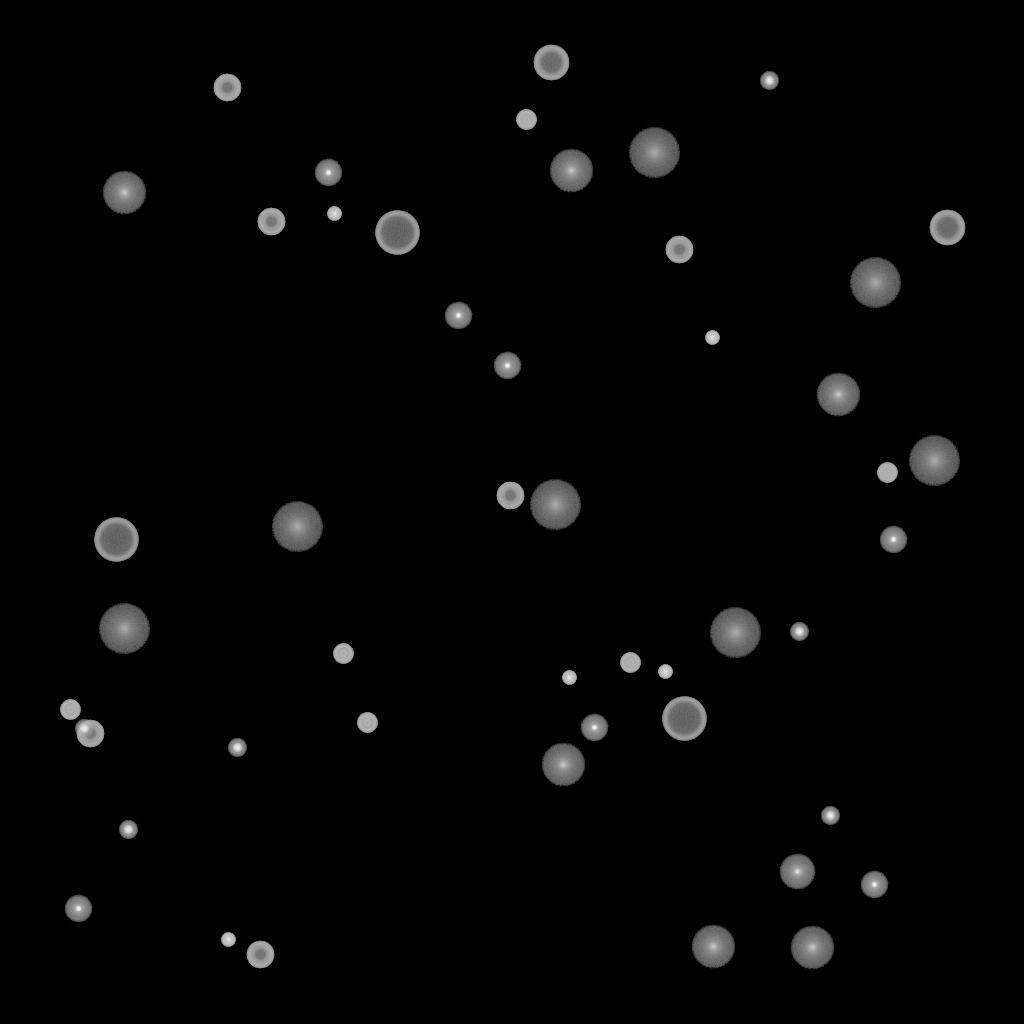depth:-10: (860, 871, 888, 899), (493, 352, 521, 380), (64, 895, 92, 923), (580, 714, 608, 742), (879, 526, 907, 554), (314, 159, 342, 187), (444, 302, 472, 330)
depth:-20: (760, 72, 778, 90), (821, 807, 839, 825), (228, 739, 246, 757), (119, 821, 137, 839), (75, 720, 93, 738), (790, 623, 808, 641)
depth:-30: (705, 331, 719, 345), (658, 665, 672, 679), (327, 207, 341, 221), (562, 671, 576, 685), (221, 933, 235, 947)
depth:-40: (60, 700, 80, 720), (620, 653, 640, 673), (357, 713, 377, 733), (877, 463, 897, 483), (333, 644, 353, 664), (516, 110, 536, 130)
depth:-50: (257, 208, 285, 236), (496, 482, 524, 510), (665, 236, 693, 264), (213, 74, 241, 102), (246, 941, 274, 969), (76, 720, 104, 748)
depth:-60: (929, 210, 965, 246), (533, 45, 569, 81)
depth:-70: (375, 211, 419, 255), (94, 518, 138, 562), (662, 697, 706, 741)
depth:0: (779, 854, 815, 890)
depth:10: (790, 926, 834, 970), (816, 373, 860, 417), (549, 149, 593, 193), (691, 925, 735, 969), (102, 171, 146, 215), (541, 743, 585, 787)
depth:20: (709, 608, 761, 658), (98, 604, 150, 654), (529, 480, 581, 530), (849, 258, 901, 308), (271, 502, 323, 552), (628, 128, 680, 178), (908, 436, 960, 486)
